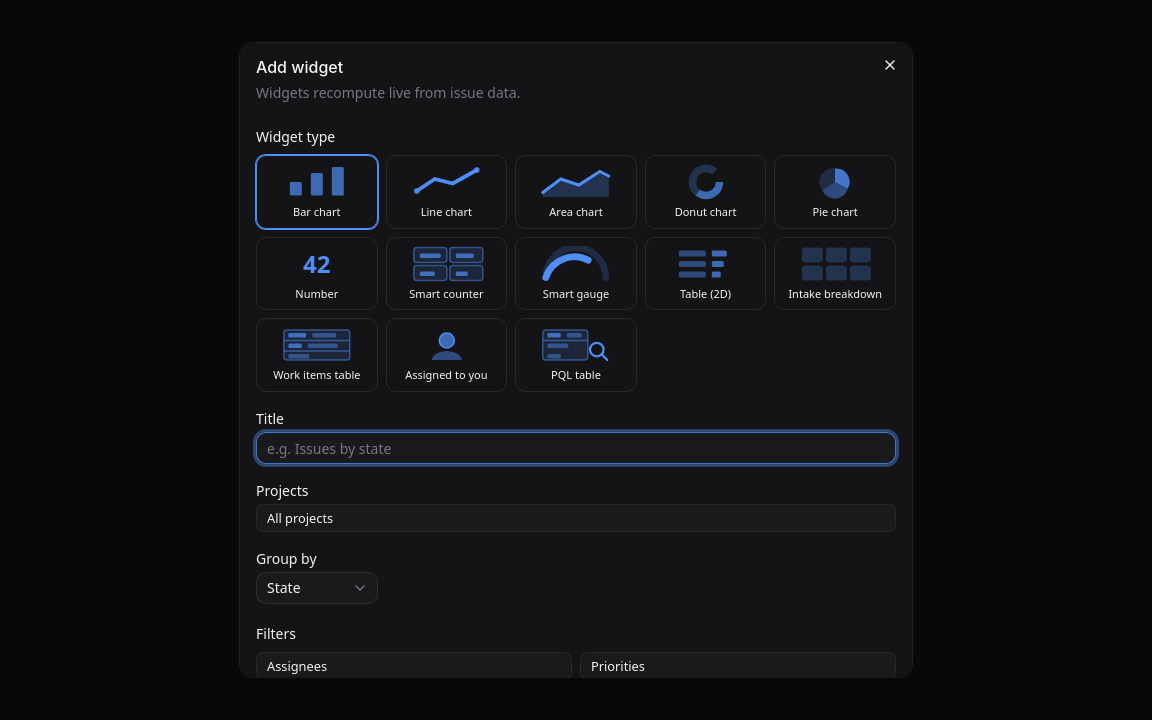
Test: WidgetDialog phase-3 config panels › shows columns chips, sort controls, and max rows for row-list types
What coordinates should you click on to do the following:
click the radio button labelled "Work items table"
I would click on:
 (317, 355)
Its box is [256,319,378,392].
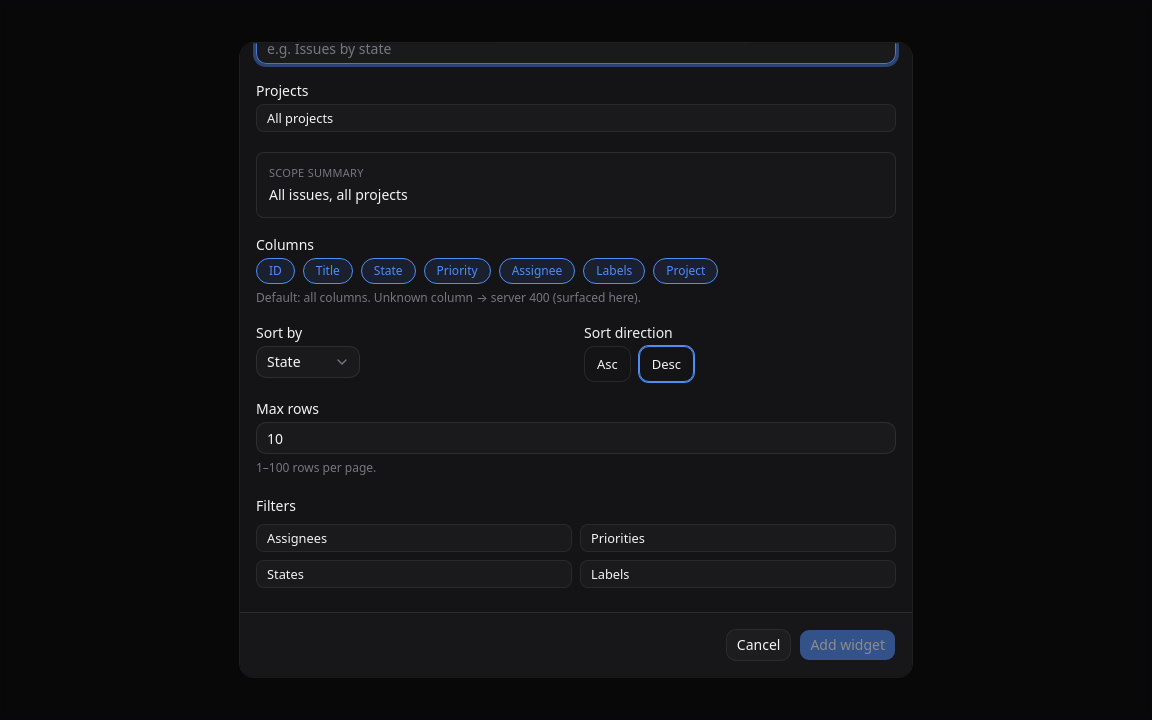
Expected: the button "State" is shown, [361,258,416,284]
Expected: the button "Priority" is shown, [424,258,491,284]
Expected: the button "Assignee" is shown, [499,258,575,284]
